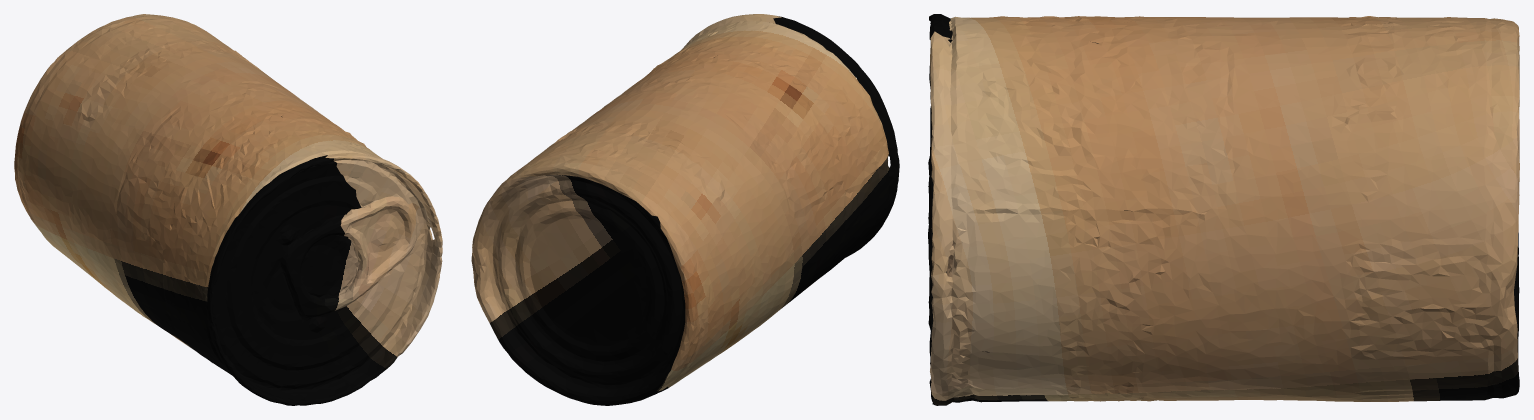
The picture shows the model from 3 angles, left to right: view 1: azimuth 30°, elevation 25°; view 2: azimuth 150°, elevation 25°; view 3: azimuth 270°, elevation 25°; orthographic projection. The views are drawn at different scales.
Bounding box in the file's own units: 0.0679 × 0.0677 × 0.1019.
